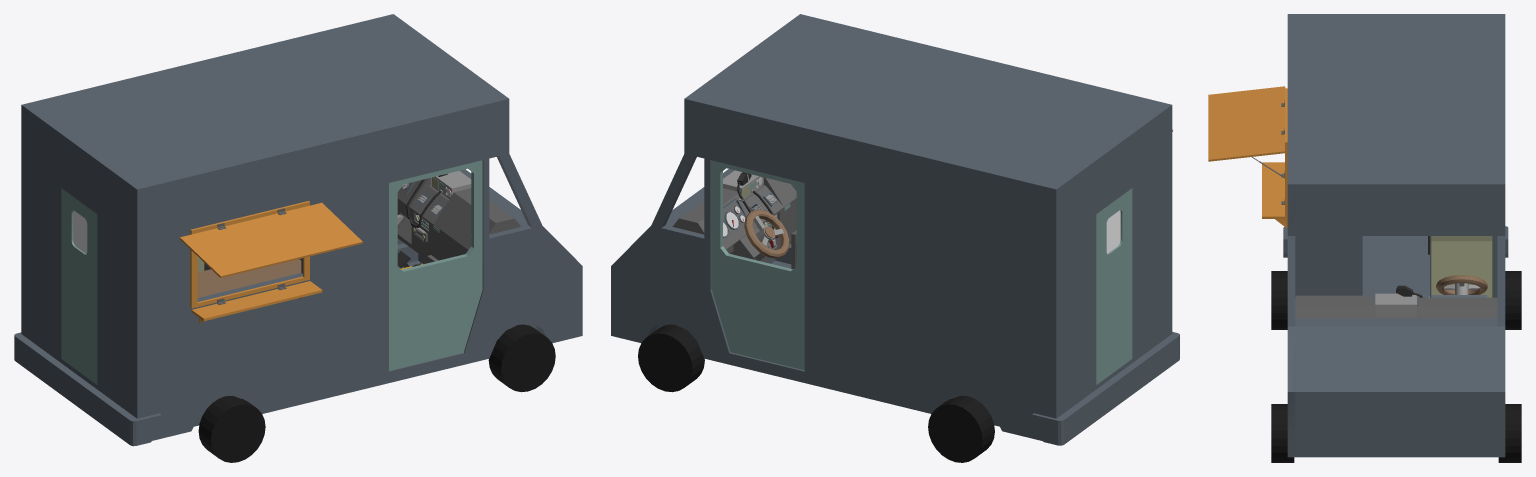
The model's file is truck_v04.fbx.
The picture shows the model from 3 angles, left to right: view 1: azimuth 30°, elevation 25°; view 2: azimuth 150°, elevation 25°; view 3: azimuth 270°, elevation 25°; orthographic projection. The views are drawn at different scales.
Parts seen in each view (by area): view 1: truck_wall_right, truck_wall_roof, truck_wall_back, truck_cab_door_right, window_awning, door, truck_wall_bumper, truck_cab_dash, truck_wheel_002, truck_wheel_000, window_counter, counter_Top (+5 smaller); view 2: truck_wall_left, truck_wall_roof, truck_wall_back, truck_cab_door_left, door, truck_wall_bumper, truck_wheel_003, truck_wheel_001, truck_cab_dash, truck_wall_right, truck_cab_steering_wheel_02, truck_wall_front (+1 smaller); view 3: truck_wall_roof, truck_wall_front, window_awning, truck_wall_divider, truck_wall_floor, truck_cab_dash, truck_cab_chair, truck_wall_left, truck_wall_right, window_counter, truck_wheel_000, truck_wheel_001 (+5 smaller).
Boxes of the visible parts, x1,y1,x2,y2 form: truck_wall_right: (133,104,582,440); truck_wall_roof: (21,14,509,194); truck_wall_back: (25,114,132,415); truck_cab_door_right: (389,160,482,370); window_awning: (180,202,362,277); door: (61,188,97,384); truck_wall_bumper: (14,332,161,446); truck_cab_dash: (397,178,520,263); truck_wheel_002: (198,396,265,462); truck_wheel_000: (488,324,555,392); window_counter: (191,281,322,321); counter_Top: (197,259,301,297); truck_wall_left: (611,104,1060,440); truck_wall_roof: (684,14,1172,194); truck_wall_back: (1060,113,1168,415); truck_cab_door_left: (711,160,804,370); door: (1096,188,1132,384); truck_wall_bumper: (1032,332,1179,445); truck_wheel_003: (928,395,994,462); truck_wheel_001: (638,324,704,392); truck_cab_dash: (672,177,796,262); truck_wall_right: (789,110,1172,336); truck_cab_steering_wheel_02: (744,209,789,258); truck_wall_front: (651,169,775,333); truck_wall_roof: (1287,14,1505,189); truck_wall_front: (1295,189,1497,457); window_awning: (1208,86,1285,161); truck_wall_divider: (1295,236,1497,297); truck_wall_floor: (1362,236,1429,305); truck_cab_dash: (1295,297,1497,318); truck_cab_chair: (1431,236,1492,297); truck_wall_left: (1497,189,1505,457); truck_wall_right: (1287,189,1295,457); window_counter: (1262,162,1284,218); truck_wheel_000: (1271,404,1294,462); truck_wheel_001: (1498,404,1521,462).
Bounding box in the file's own units: 4.85 × 2.96 × 3.1.
